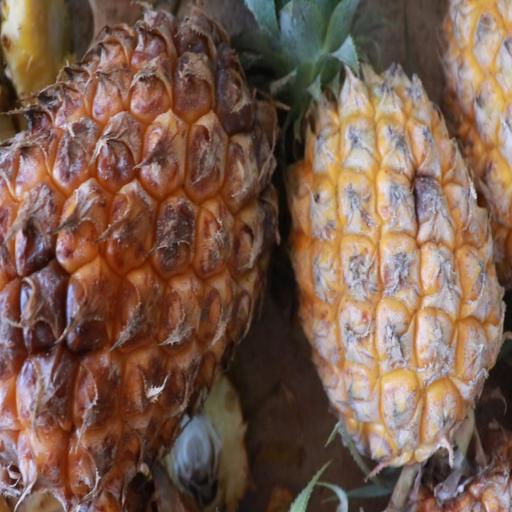Pineapple - v8 v1: (0, 0, 283, 501), (283, 4, 505, 482)
